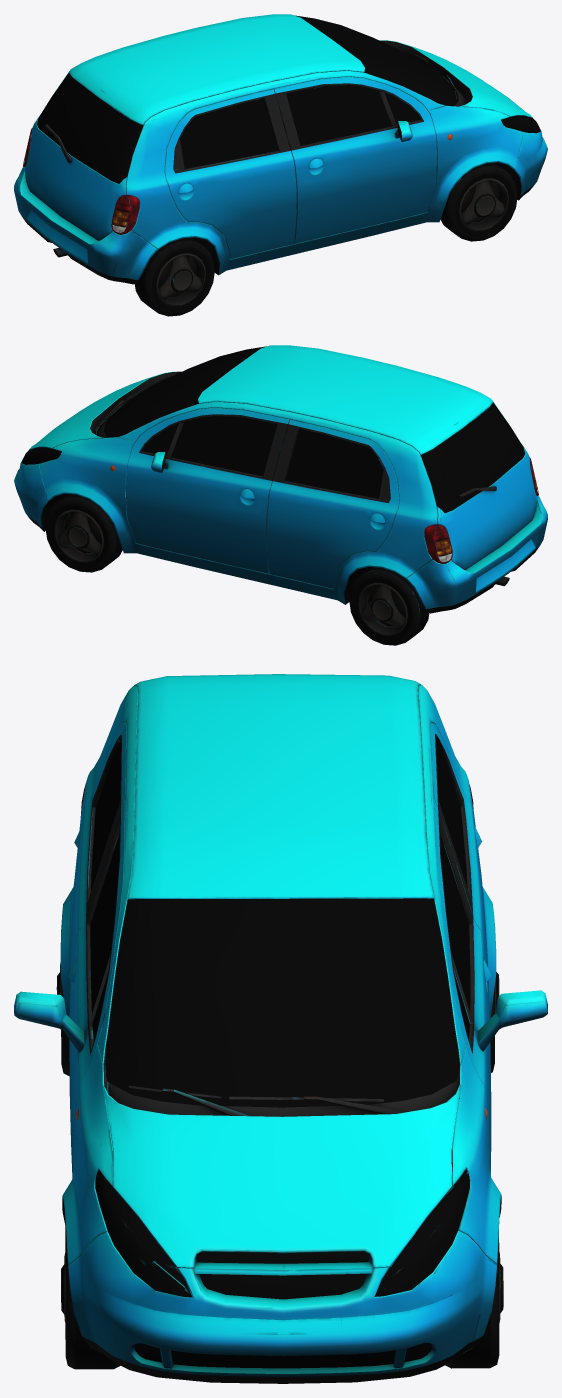
The model's file is car2.obj.
The picture shows the model from 3 angles, top to bottom: view 1: azimuth 30°, elevation 25°; view 2: azimuth 150°, elevation 25°; view 3: azimuth 270°, elevation 25°; orthographic projection. The views are drawn at different scales.
Parts seen in each view (by area): view 1: bake; view 2: bake; view 3: bake.
Boxes of the visible parts, x1,y1,x2,y2 form: bake: (14, 14, 547, 316); bake: (14, 345, 547, 645); bake: (14, 674, 547, 1383).
Size of the model in its own units: 3.26 by 1.32 by 1.61.
1 material, 1 textured.
